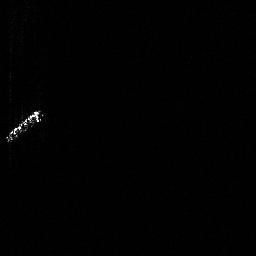ship: (3, 106, 46, 146)
